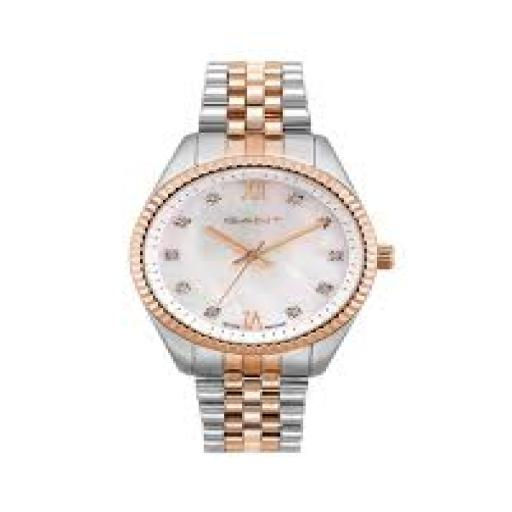KolSaati: (64, 31, 416, 467)
